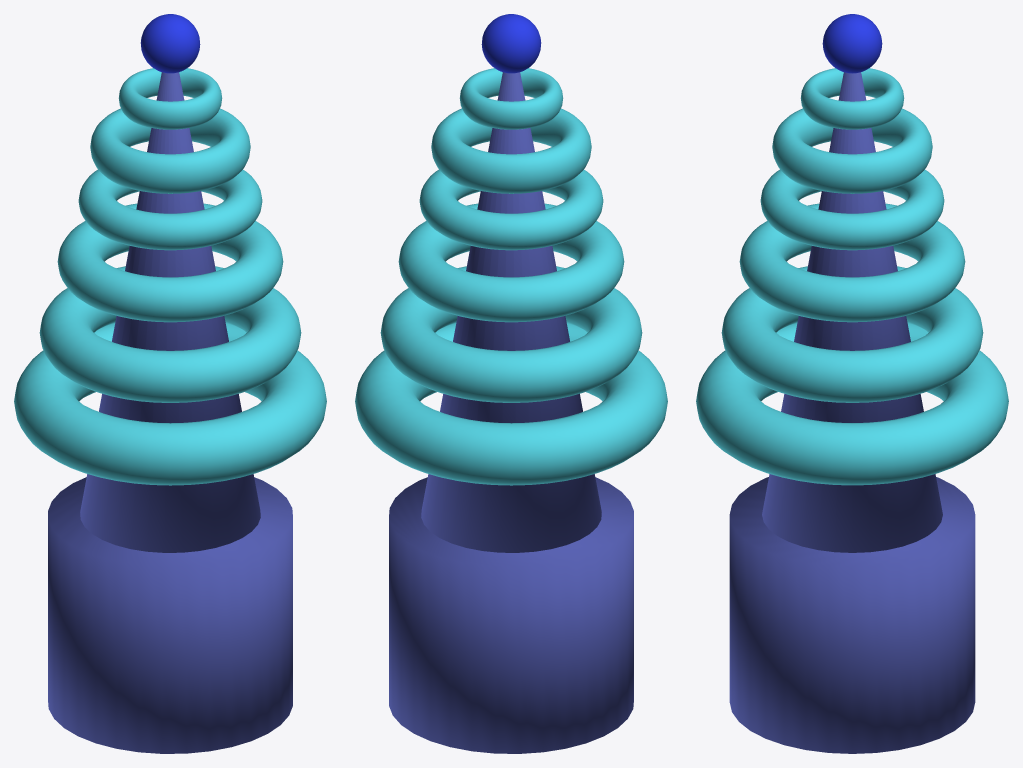
File: wieza.fbx
3 renders of one model, left to right at view 1: azimuth 30°, elevation 25°; view 2: azimuth 150°, elevation 25°; view 3: azimuth 270°, elevation 25°, orthographic.
Parts seen in each view (by area): view 1: Cylinder, Torus, Cylinder.001, Torus.001, Torus.002, Torus.004, Torus.003, Torus.005, Sphere; view 2: Cylinder, Torus, Cylinder.001, Torus.001, Torus.002, Torus.004, Torus.003, Torus.005, Sphere; view 3: Cylinder, Torus, Cylinder.001, Torus.001, Torus.002, Torus.004, Torus.003, Torus.005, Sphere.
Boxes of the visible parts, <box> form: Cylinder: <box>48,477,292,753</box>; Torus: <box>14,322,326,485</box>; Cylinder.001: <box>80,72,260,552</box>; Torus.001: <box>39,266,301,402</box>; Torus.002: <box>57,203,283,322</box>; Torus.004: <box>90,108,250,193</box>; Torus.003: <box>78,169,262,250</box>; Torus.005: <box>118,68,222,129</box>; Sphere: <box>140,14,200,73</box>; Cylinder: <box>389,477,633,753</box>; Torus: <box>355,322,667,485</box>; Cylinder.001: <box>421,72,601,552</box>; Torus.001: <box>380,266,642,402</box>; Torus.002: <box>398,203,624,322</box>; Torus.004: <box>431,108,591,193</box>; Torus.003: <box>419,169,603,250</box>; Torus.005: <box>459,68,563,129</box>; Sphere: <box>481,14,541,73</box>; Cylinder: <box>729,477,975,753</box>; Torus: <box>696,322,1008,485</box>; Cylinder.001: <box>762,72,942,552</box>; Torus.001: <box>721,266,983,402</box>; Torus.002: <box>739,203,965,322</box>; Torus.004: <box>772,108,932,193</box>; Torus.003: <box>760,169,944,250</box>; Torus.005: <box>800,68,904,129</box>; Sphere: <box>822,14,882,73</box>.
Bounding box in the file's own units: 188 × 453 × 188.
